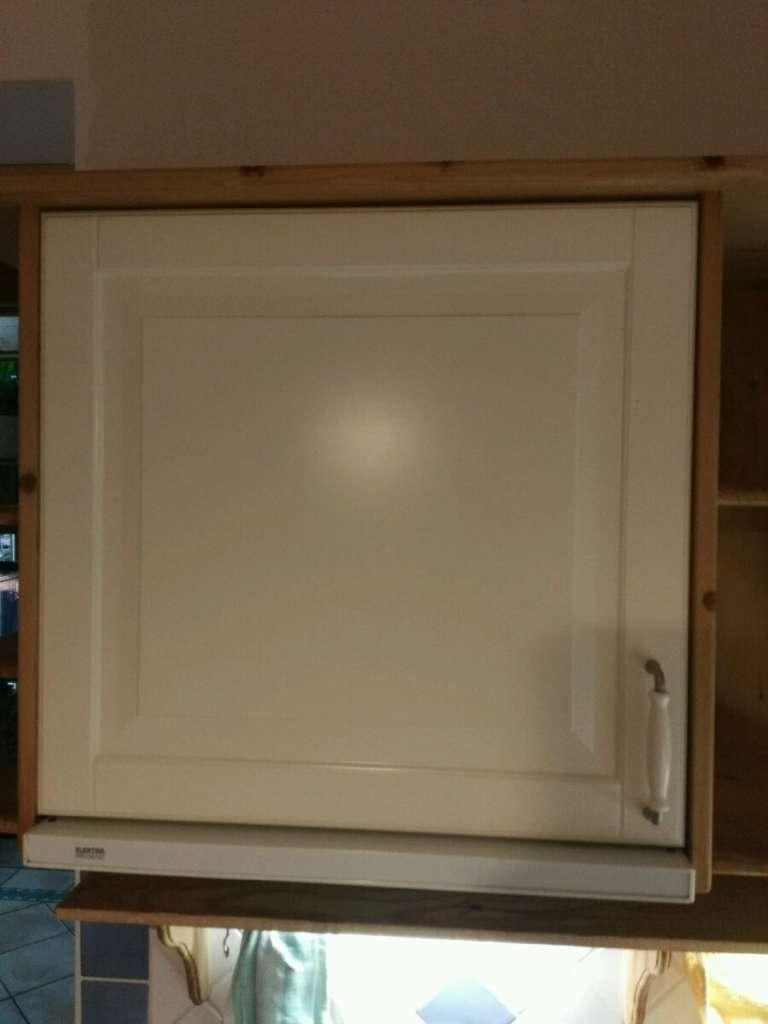cabinet_door: (42, 215, 692, 835)
handle: (632, 656, 680, 834)
